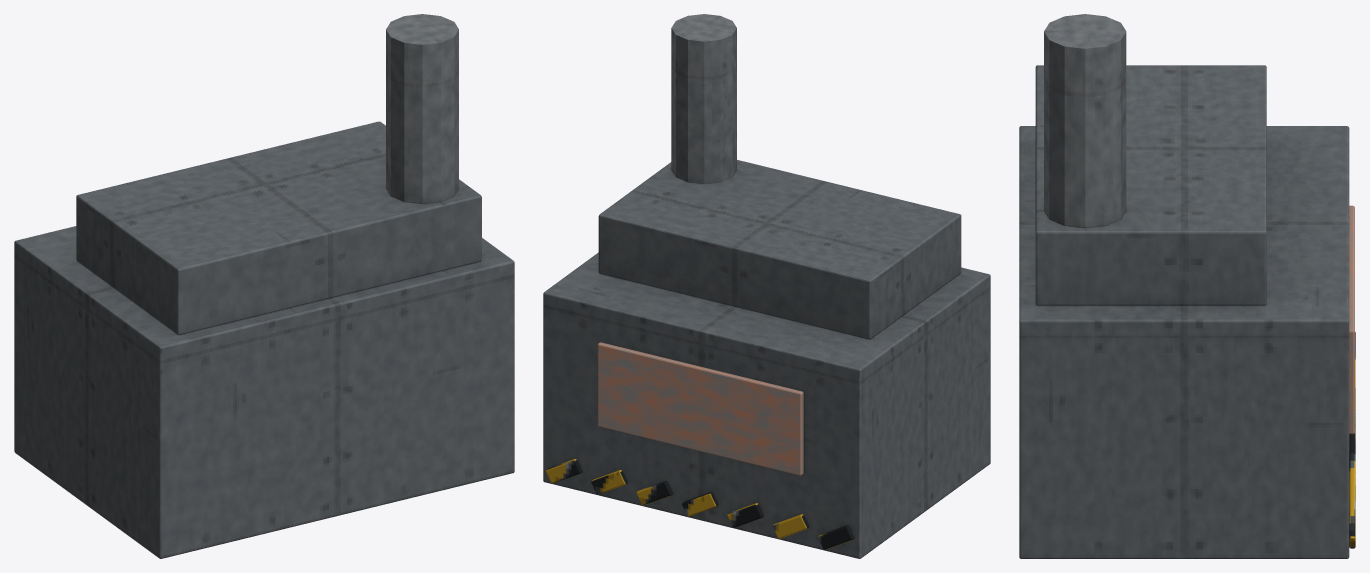
File: base_recycler.glb
3 views of the same model, side by side, from view 1: azimuth 30°, elevation 25°; view 2: azimuth 150°, elevation 25°; view 3: azimuth 270°, elevation 25° (orthographic). The views are drawn at different scales.
Visible parts, largest first — view 1: base_recycler.001; view 2: base_recycler.001; view 3: base_recycler.001.
Part boxes in pixels (<box>): base_recycler.001: <box>14,14,514,558</box>; base_recycler.001: <box>543,14,990,558</box>; base_recycler.001: <box>1019,14,1355,558</box>.
Bounding box in the file's own units: 2.8 × 3.3 × 2.04.
Materials: 3 (3 with a texture image).
